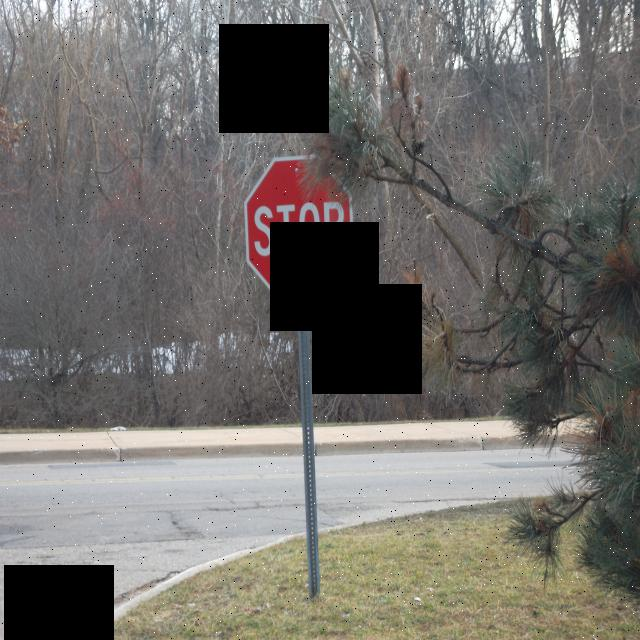stop: (240, 150, 358, 307)
